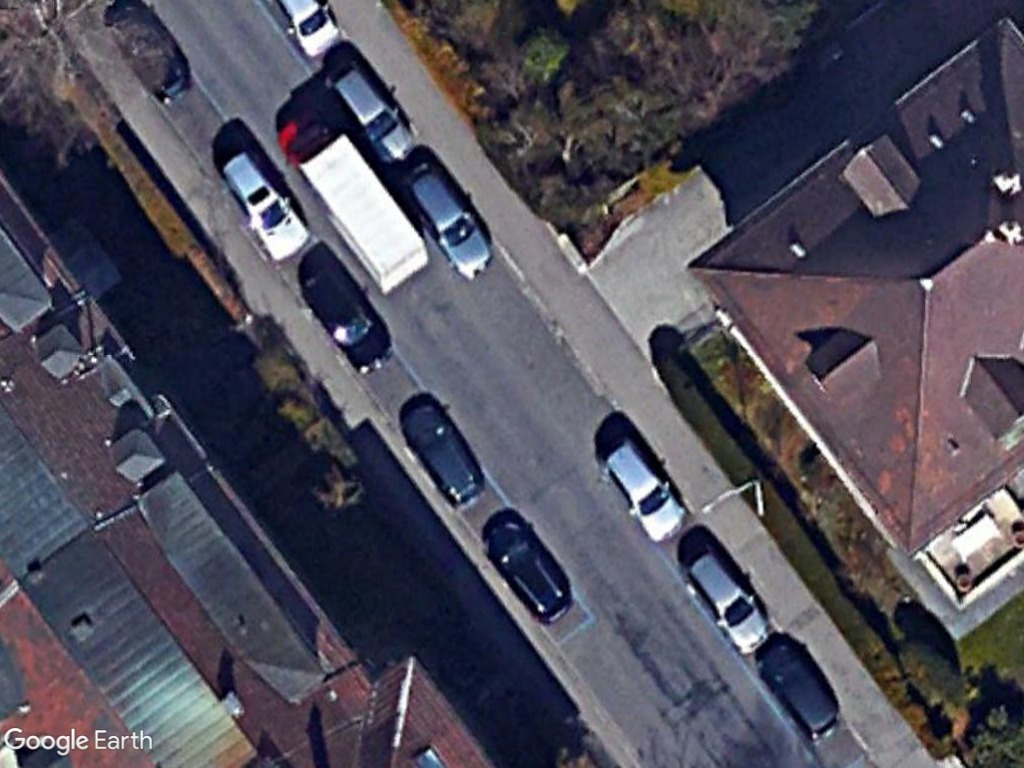car: (396, 151, 500, 281), (294, 252, 393, 384), (215, 146, 314, 263), (679, 535, 770, 658), (597, 429, 689, 546), (397, 396, 489, 510), (324, 61, 416, 164)
truck: (271, 109, 432, 296)
